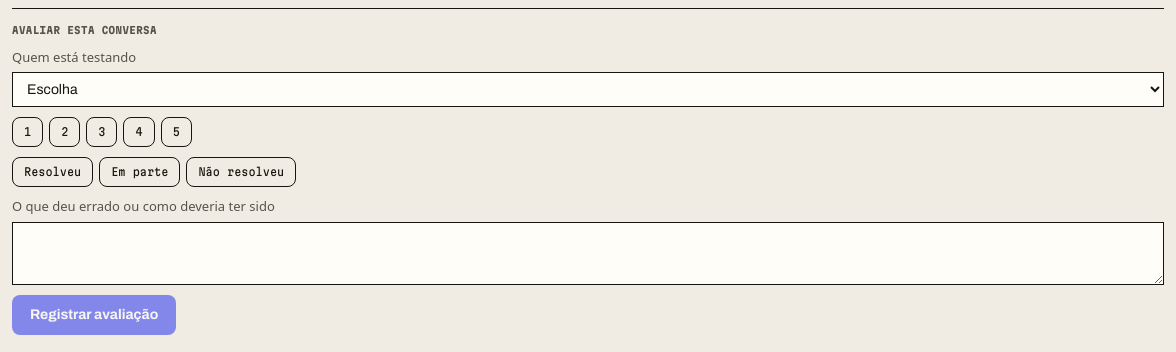
Test case: só envia com quem testa, a nota e se resolveu escolhidos
Expected: the button "Registrar avaliação" is disabled, x1=12 y1=295 x2=176 y2=335
Select "enzo200325" in the dropdown labelled "Quem está testando": (588, 90) x1=12 y1=72 x2=1164 y2=107
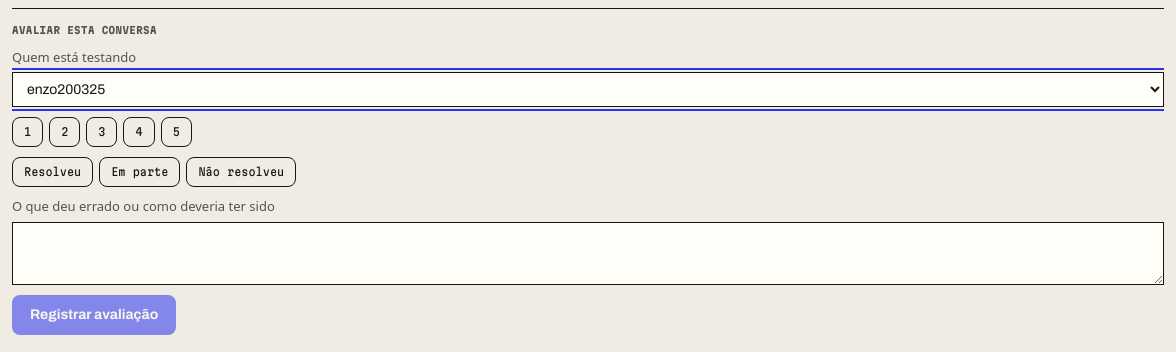
Click the button "5": (176, 132) x1=161 y1=117 x2=192 y2=147
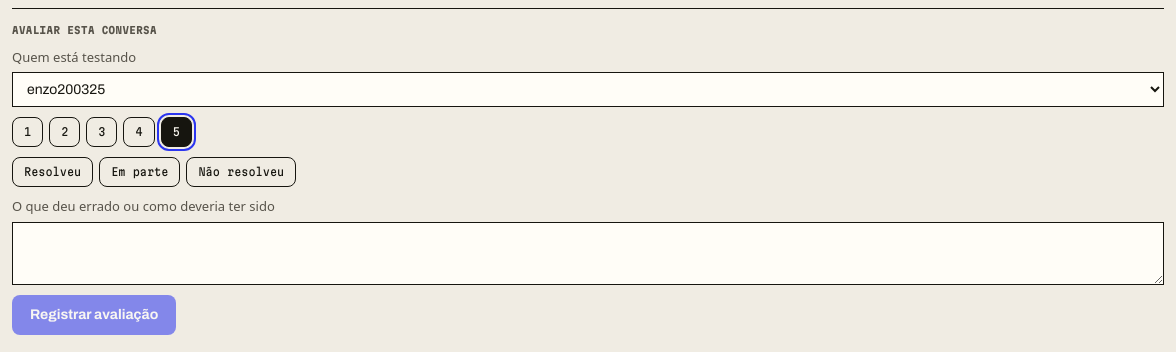
Expected: the button "Registrar avaliação" is disabled, x1=12 y1=295 x2=176 y2=335
Click the button "Resolveu": (53, 172) x1=12 y1=157 x2=93 y2=187
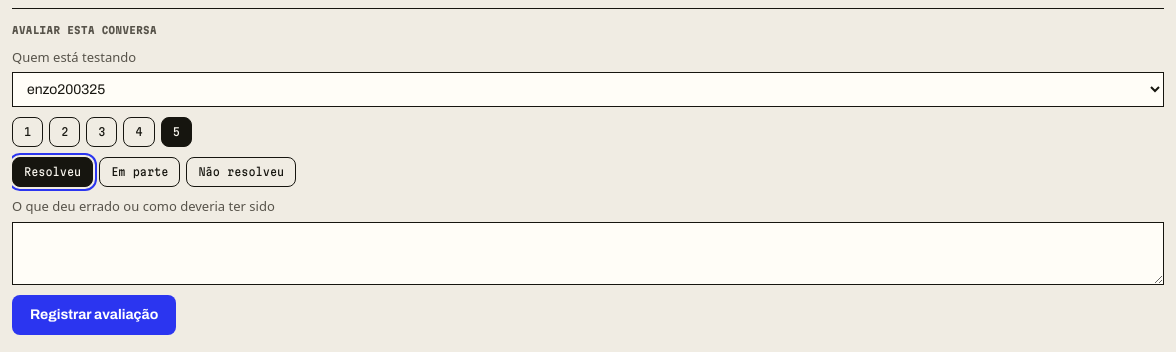
Expected: the button "Registrar avaliação" is enabled, x1=12 y1=295 x2=176 y2=335
